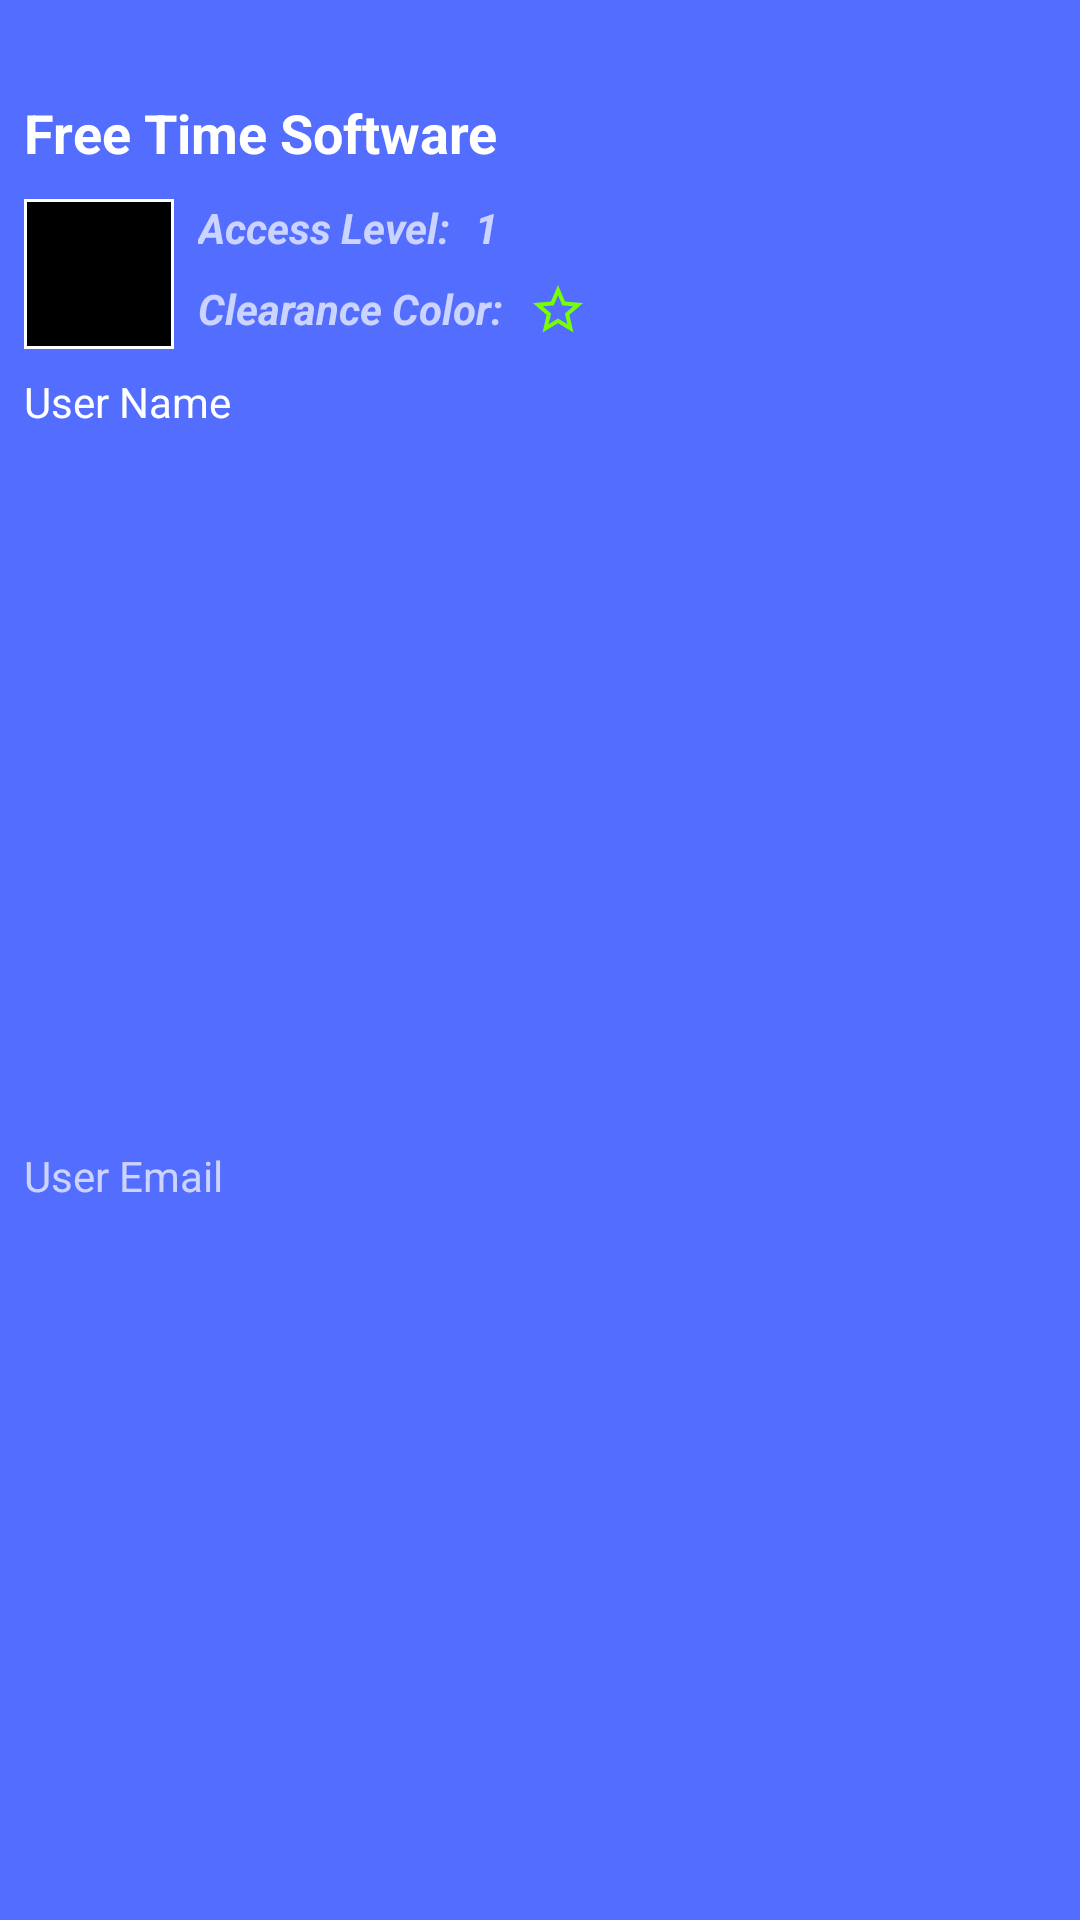

Screen size 1080*1920. Icon name, then its box in pixels as (x1, y1, x2, y2):
star border: (533, 285, 583, 333)
